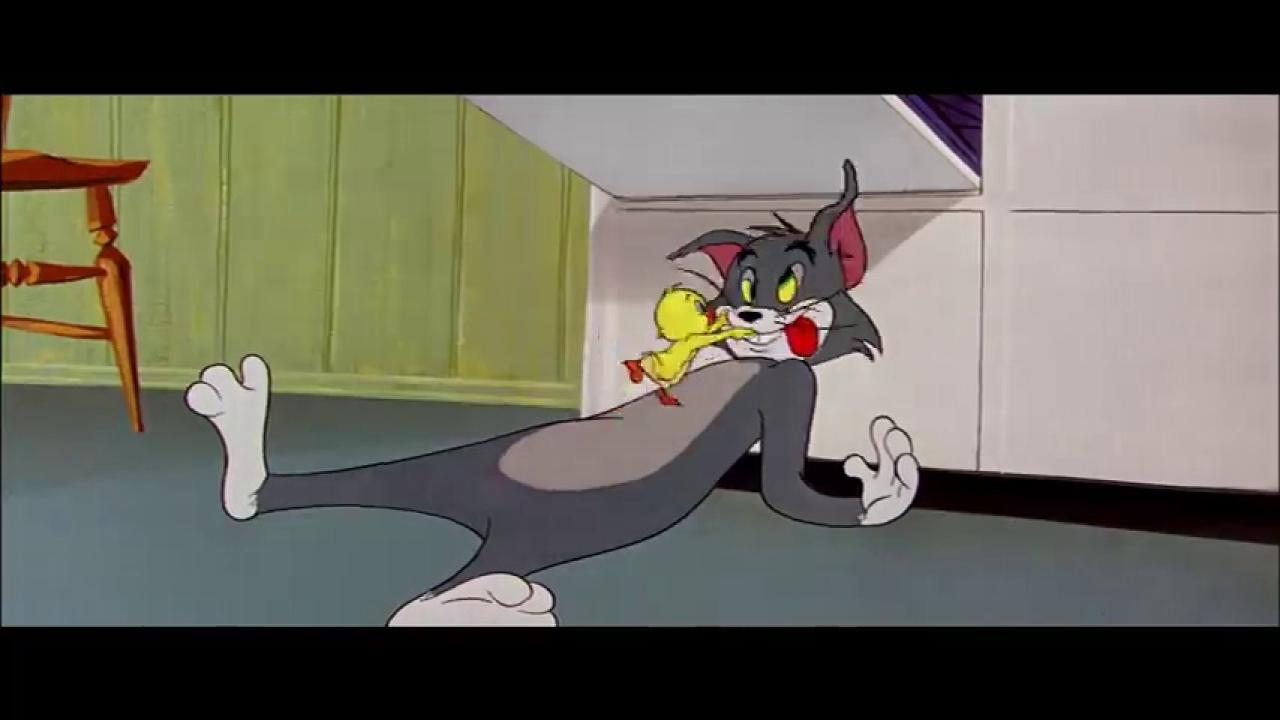Tom: (184, 158, 922, 627)
